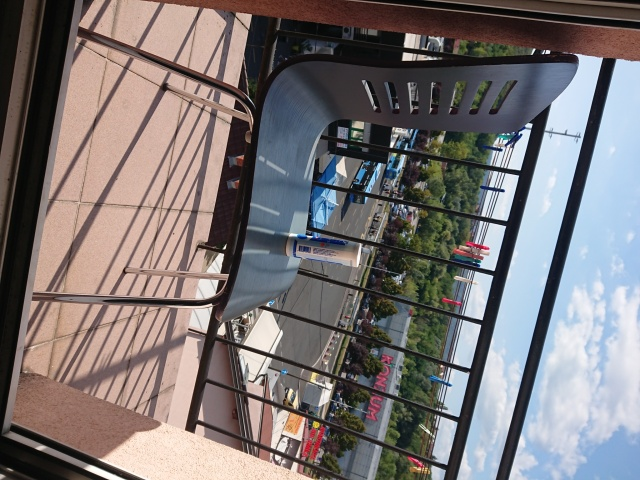Solana Pag Fine Sea Salt 250g: (283, 232, 363, 270)
